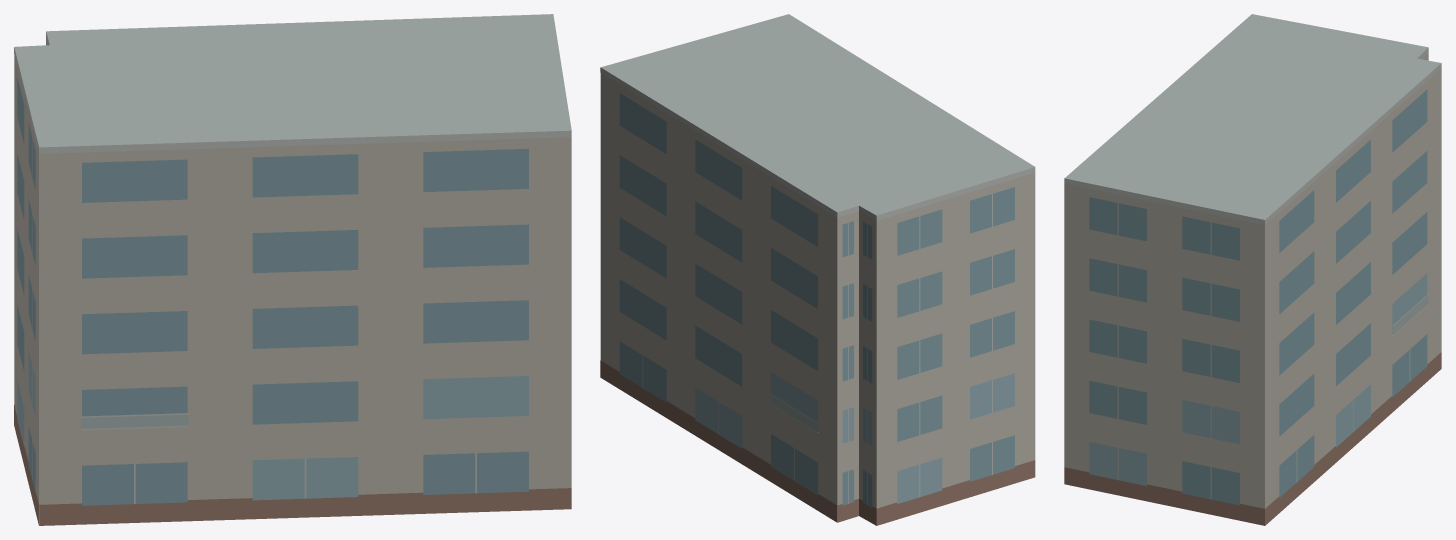
Rendered from survey-upis-33031115.glb.
The picture shows the model from 3 angles, left to right: view 1: azimuth 30°, elevation 25°; view 2: azimuth 150°, elevation 25°; view 3: azimuth 270°, elevation 25°; orthographic projection. The views are drawn at different scales.
Parts seen in each view (by area): view 1: survey-upis-33031115.tmp; view 2: survey-upis-33031115.tmp; view 3: survey-upis-33031115.tmp.
Part boxes in pixels (x1,y1,x2,y2): survey-upis-33031115.tmp: [14, 14, 571, 525]; survey-upis-33031115.tmp: [600, 14, 1035, 525]; survey-upis-33031115.tmp: [1064, 14, 1441, 525].
Bounding box in the file's own units: 20.52 × 14.2 × 15.87.
